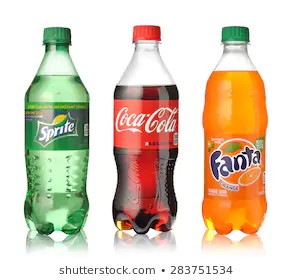coke-bottle-700ml: (107, 23, 181, 235)
